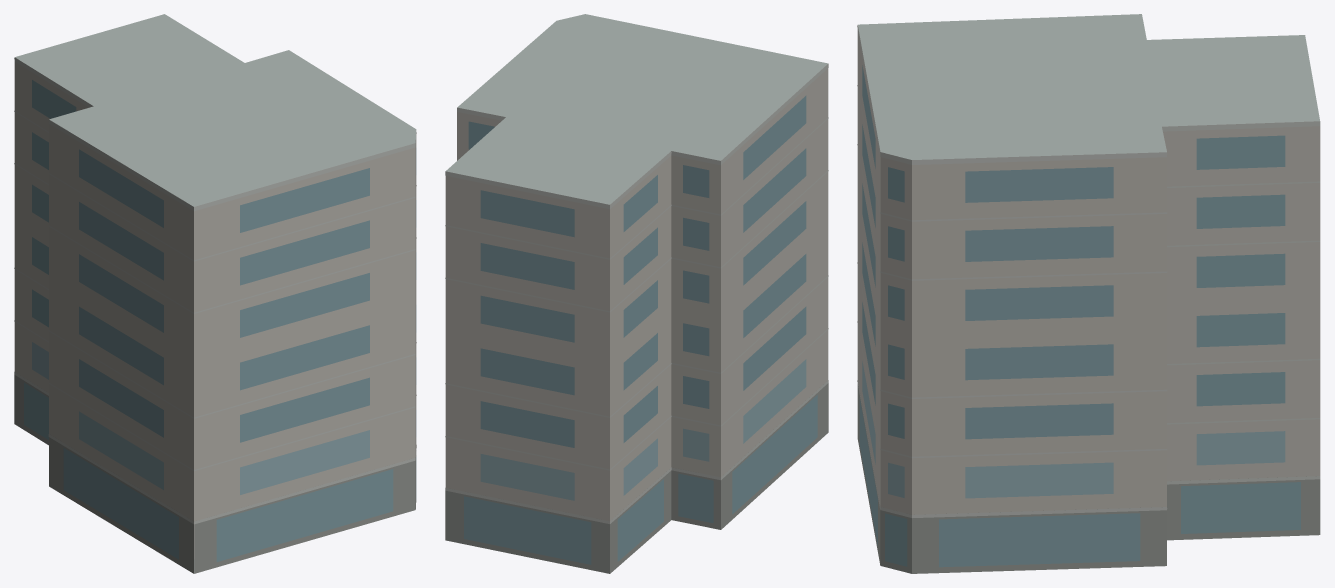
The model's file is survey-upis-32738045.glb.
The picture shows the model from 3 angles, left to right: view 1: azimuth 30°, elevation 25°; view 2: azimuth 150°, elevation 25°; view 3: azimuth 270°, elevation 25°; orthographic projection. The views are drawn at different scales.
Parts seen in each view (by area): view 1: survey-upis-32738045.tmp; view 2: survey-upis-32738045.tmp; view 3: survey-upis-32738045.tmp.
Part boxes in pixels (x1,y1,x2,y2): survey-upis-32738045.tmp: (14, 14, 416, 573); survey-upis-32738045.tmp: (445, 14, 828, 573); survey-upis-32738045.tmp: (857, 14, 1320, 573).
Bounding box in the file's own units: 15.4 × 20.3 × 20.59.
